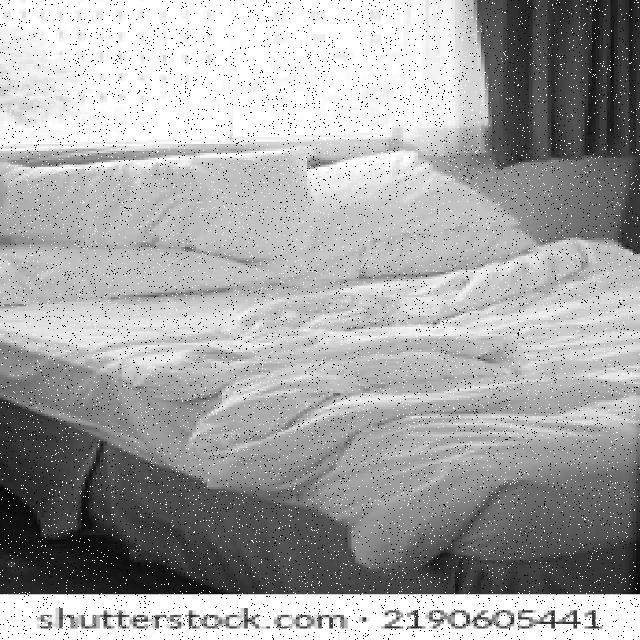bed: (2, 146, 640, 566)
